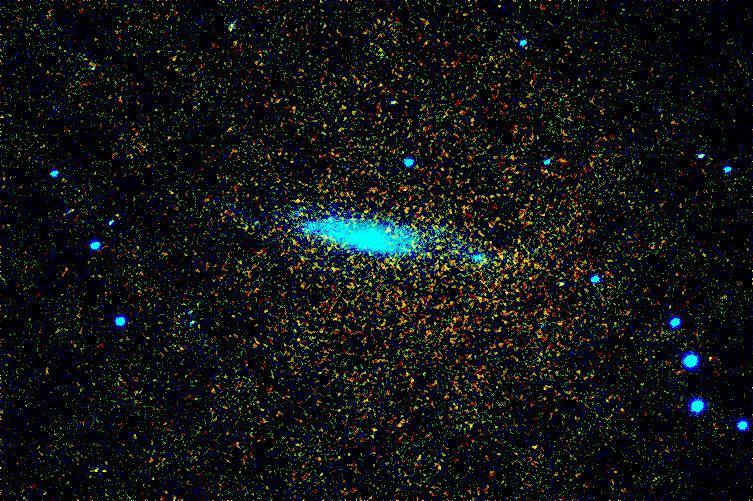star: (370, 216, 400, 246)
